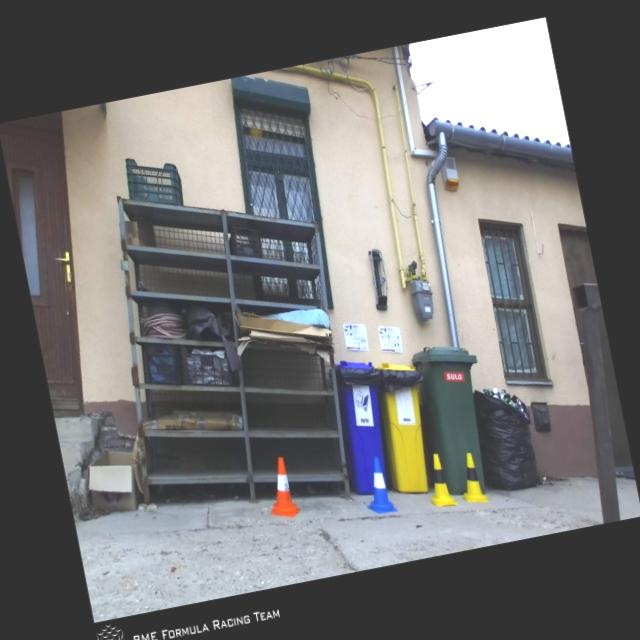blue_cone: (358, 454, 398, 518)
orange_cone: (261, 457, 302, 522)
yellow_cone: (422, 452, 458, 508), (454, 451, 488, 506)
